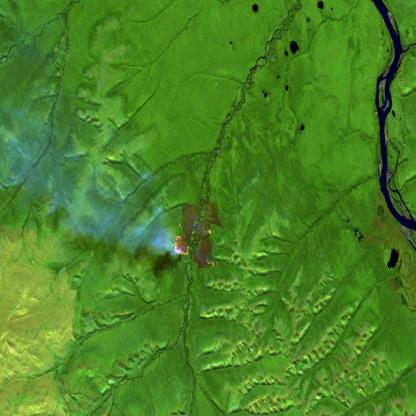fire: (169, 222, 217, 271)
